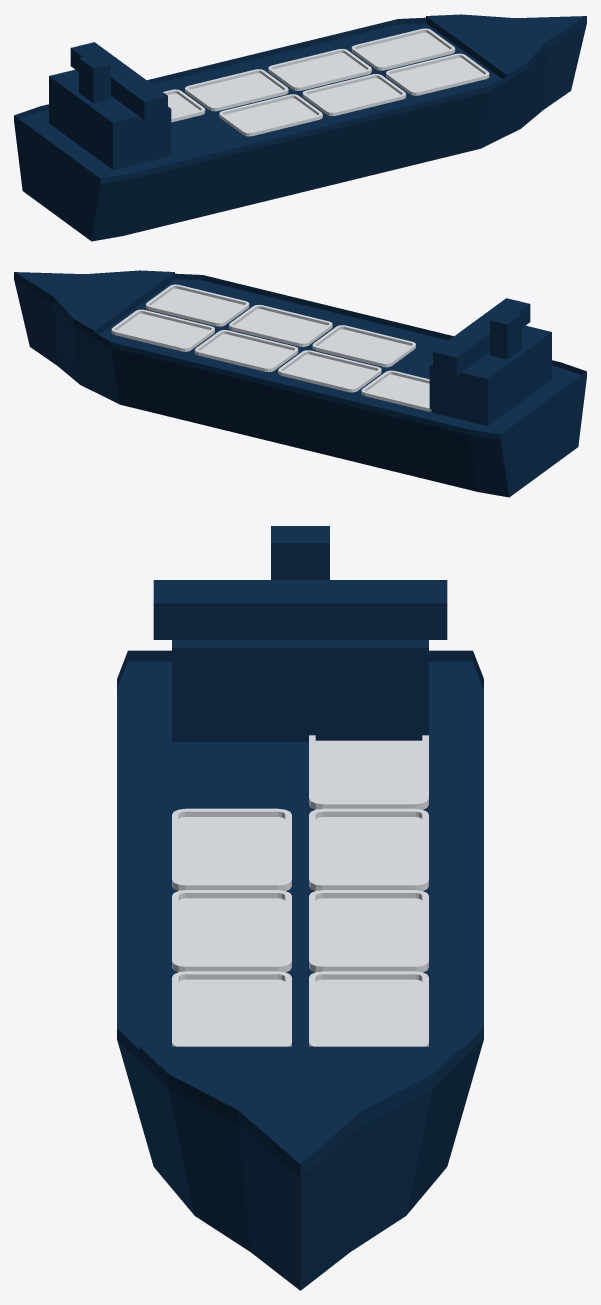
The model's file is vessel-tank-07.glb.
3 views of the same model, one above another, from view 1: azimuth 30°, elevation 25°; view 2: azimuth 150°, elevation 25°; view 3: azimuth 270°, elevation 25° (orthographic). The views are drawn at different scales.
Visible parts, largest first — view 1: hull, superstructure, detail_forecastle, detail_bulwark, tank_01p, tank_03s, tank_02s, tank_03p, tank_01s, tank_02p, detail_funnel, tank_04p; view 2: hull, superstructure, detail_forecastle, detail_bulwark, tank_01s, tank_03p, tank_02p, tank_03s, tank_01p, tank_02s, tank_04p, detail_funnel; view 3: hull, superstructure, detail_forecastle, tank_02p, tank_02s, tank_03p, tank_03s, tank_01p, tank_01s, tank_04p, detail_bulwark, detail_funnel.
Boxes of the visible parts, x1=… form: hull: x1=14, y1=23, x2=586, y2=241; superstructure: x1=49, y1=42, x2=171, y2=169; detail_forecastle: x1=426, y1=14, x2=586, y2=81; detail_bulwark: x1=14, y1=17, x2=586, y2=183; tank_01p: x1=351, y1=28, x2=455, y2=70; tank_03s: x1=219, y1=94, x2=322, y2=136; tank_02s: x1=302, y1=74, x2=406, y2=116; tank_03p: x1=185, y1=69, x2=288, y2=111; tank_01s: x1=386, y1=53, x2=489, y2=95; tank_02p: x1=268, y1=49, x2=371, y2=90; detail_funnel: x1=79, y1=53, x2=110, y2=103; tank_04p: x1=163, y1=89, x2=205, y2=122; hull: x1=14, y1=279, x2=586, y2=497; superstructure: x1=429, y1=298, x2=551, y2=425; detail_forecastle: x1=14, y1=270, x2=174, y2=337; detail_bulwark: x1=14, y1=273, x2=586, y2=439; tank_01s: x1=145, y1=284, x2=249, y2=326; tank_03p: x1=278, y1=350, x2=381, y2=392; tank_02p: x1=194, y1=330, x2=298, y2=372; tank_03s: x1=312, y1=325, x2=415, y2=367; tank_01p: x1=111, y1=309, x2=214, y2=351; tank_02s: x1=229, y1=305, x2=332, y2=346; tank_04p: x1=361, y1=370, x2=431, y2=412; detail_funnel: x1=490, y1=309, x2=521, y2=359; hull: x1=117, y1=661, x2=483, y2=1290; superstructure: x1=153, y1=580, x2=447, y2=741; detail_forecastle: x1=139, y1=1046, x2=461, y2=1176; tank_02p: x1=309, y1=890, x2=428, y2=972; tank_02s: x1=172, y1=890, x2=291, y2=972; tank_03p: x1=309, y1=808, x2=428, y2=890; tank_03s: x1=172, y1=808, x2=291, y2=890; tank_01p: x1=309, y1=971, x2=428, y2=1046; tank_01s: x1=172, y1=971, x2=291, y2=1046; tank_04p: x1=309, y1=735, x2=428, y2=809; detail_bulwark: x1=117, y1=650, x2=483, y2=1178; detail_funnel: x1=271, y1=526, x2=329, y2=579.
Bounding box in the file's own units: 10 × 2.63 × 3.
